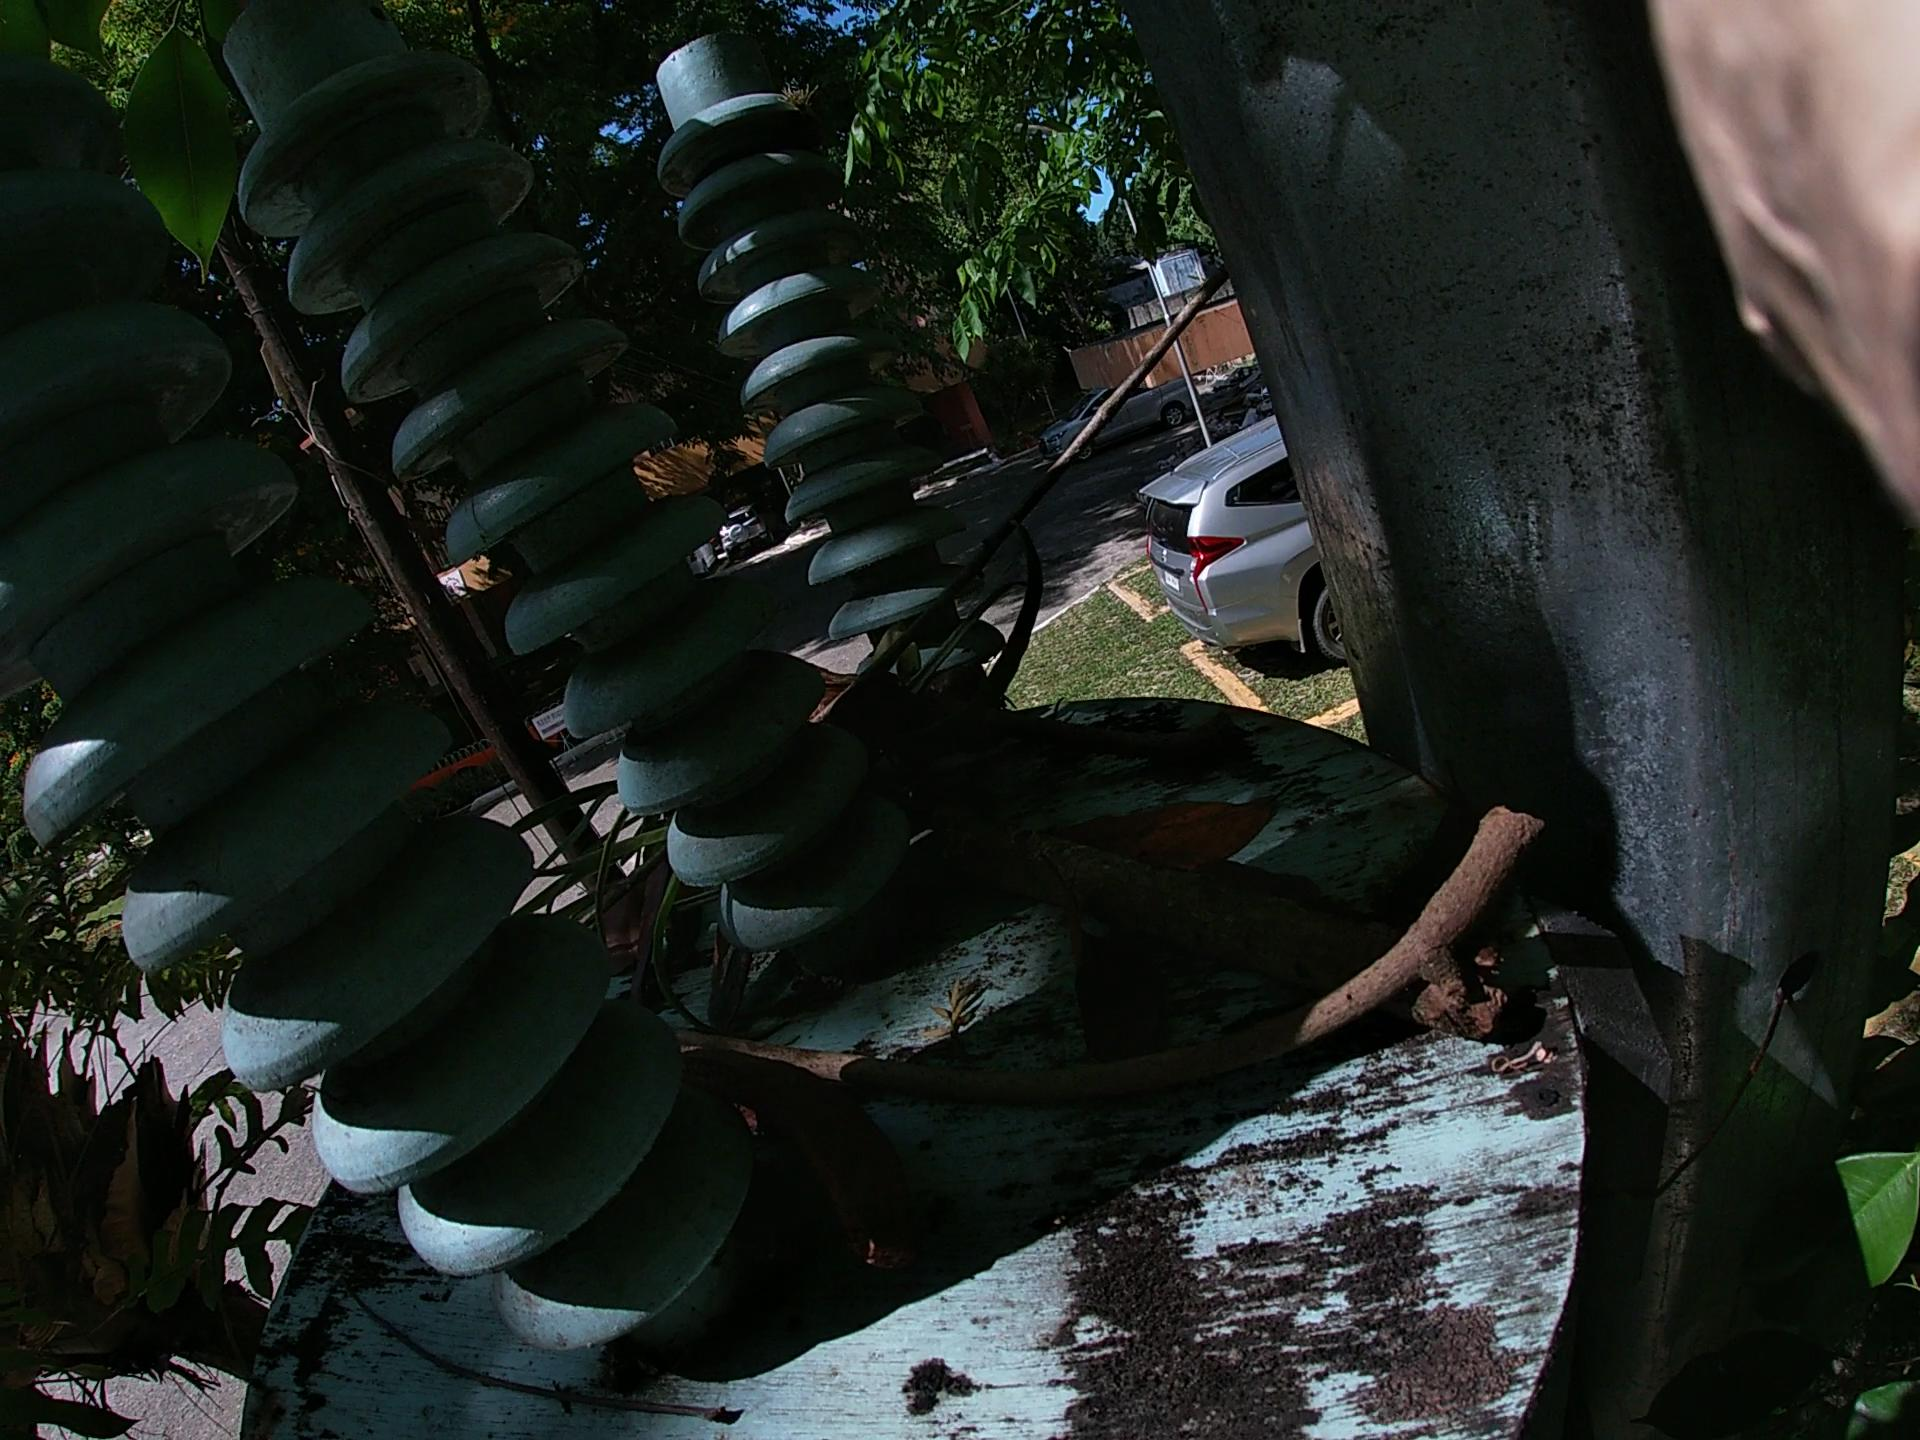branch with leaves: (581, 582, 1621, 1156)
leaf: (1070, 715, 1271, 1042)
mahogany fruit: (670, 985, 856, 1204), (741, 617, 937, 771), (712, 555, 859, 750)
tree branch: (697, 303, 1287, 971), (652, 812, 1541, 1104), (283, 1221, 794, 1437)
